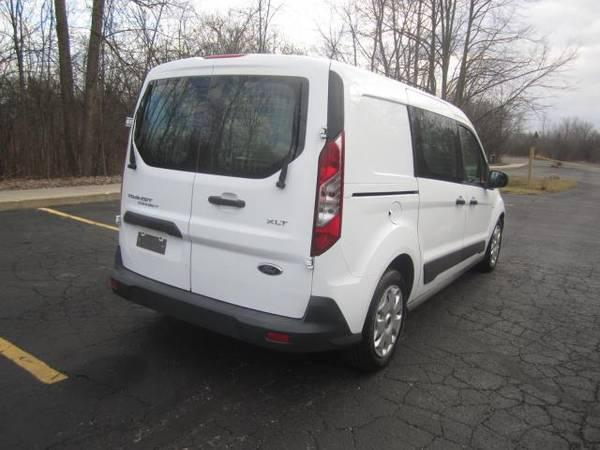Front_Right_Door: (464, 187, 499, 271)
Front_Right_Window: (461, 123, 500, 192)
Rear_Bumper: (107, 239, 379, 351)
Rear_Fender: (341, 88, 421, 306)
Rear_Right_Door: (415, 178, 467, 299)
Rear_Right_Window: (411, 104, 466, 184)
Right_Taillight: (312, 127, 343, 259)
Roof: (141, 51, 475, 143)
Tailgate: (118, 74, 328, 312)
Wheel: (361, 271, 407, 366), (487, 223, 503, 269)
